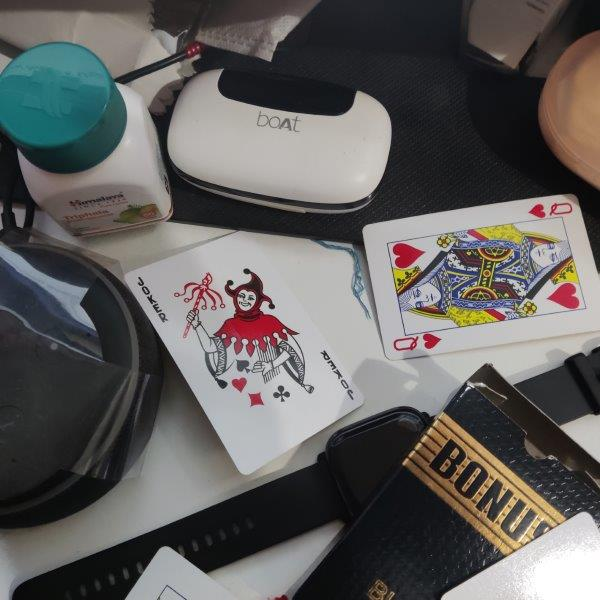Joker: (124, 230, 367, 476)
Queen of Hearts: (363, 194, 600, 361)
